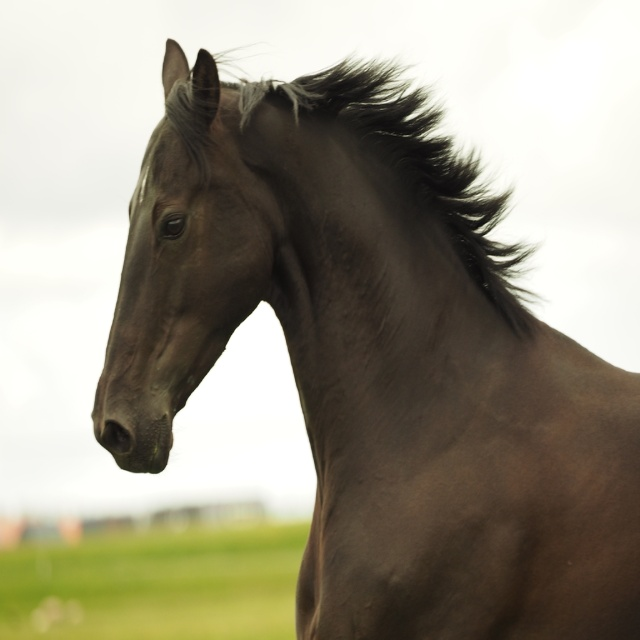Horse: (92, 39, 640, 639)
